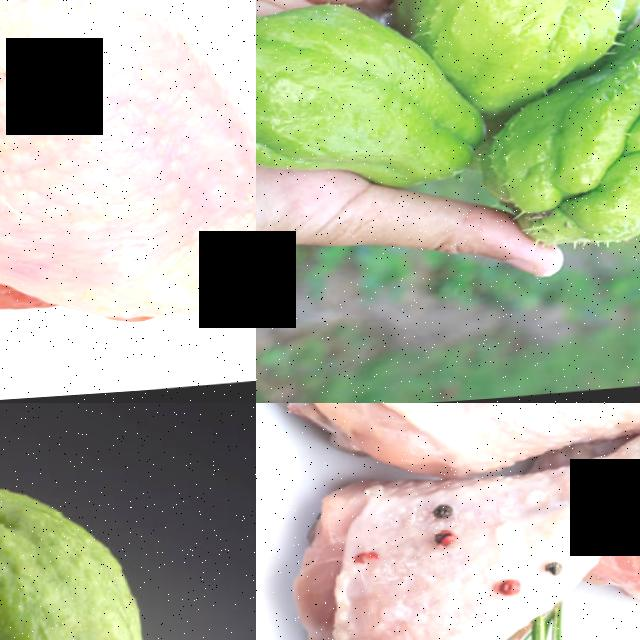chayote: (0, 450, 215, 640), (256, 2, 439, 191), (532, 79, 640, 263), (427, 0, 604, 66)
chicken thigh: (0, 0, 256, 349), (274, 421, 640, 640), (260, 403, 640, 470)
